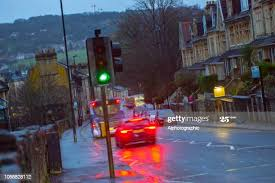signal: (86, 35, 115, 84)
